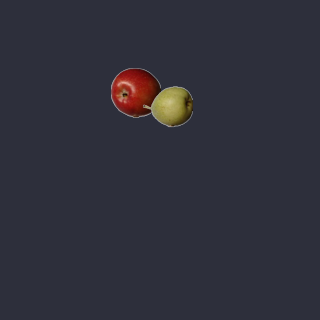Apple Braeburn: (110, 67, 160, 117)
Pear: (142, 81, 192, 131)
